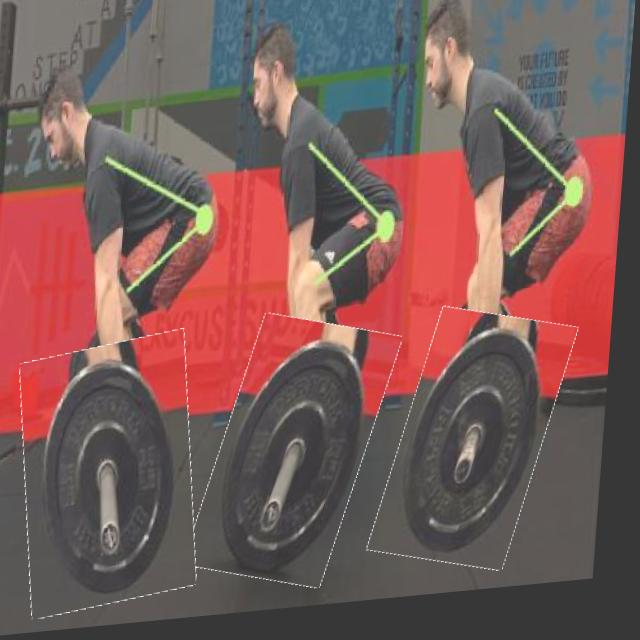barbell: (19, 336, 214, 619), (205, 318, 396, 599), (389, 314, 574, 585)
